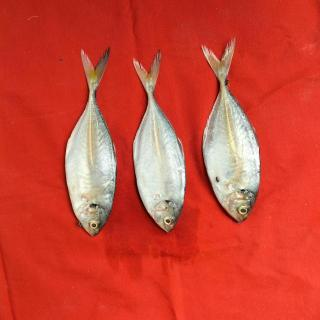Ikan: (63, 33, 263, 245)
